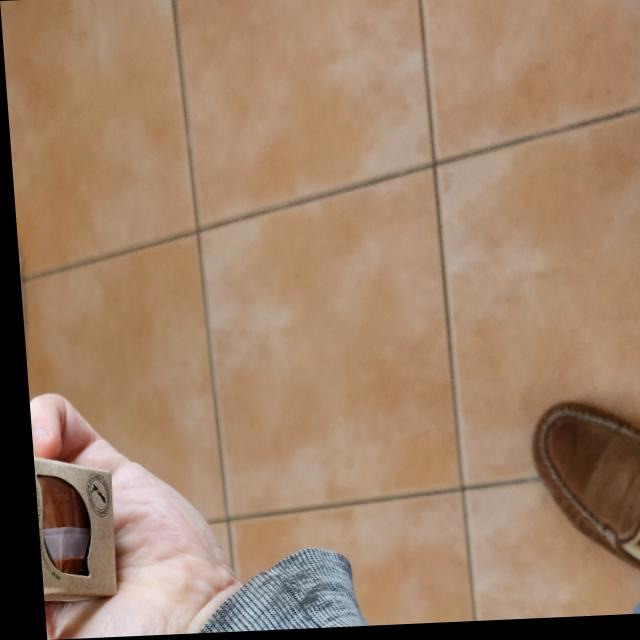cayenne pepper: (25, 424, 111, 602)
